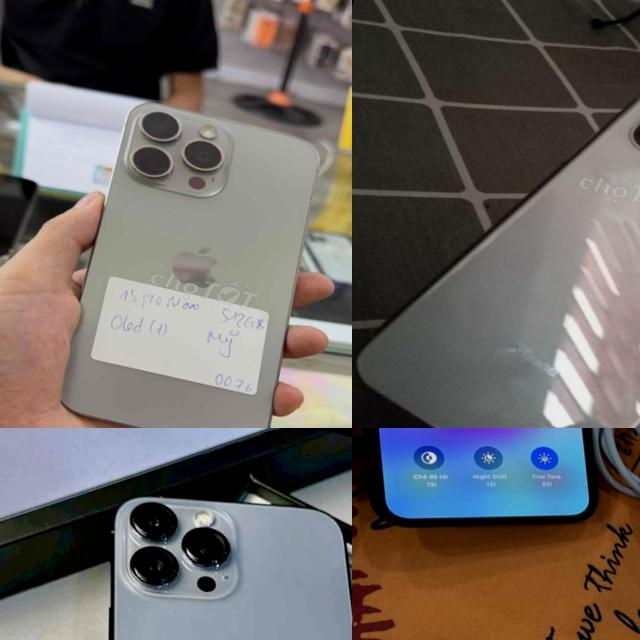gen_11: (352, 428, 640, 576)
gen_12_13: (0, 457, 352, 640)
gen_15: (25, 71, 352, 428)
gen_x_xs: (357, 96, 640, 428)
